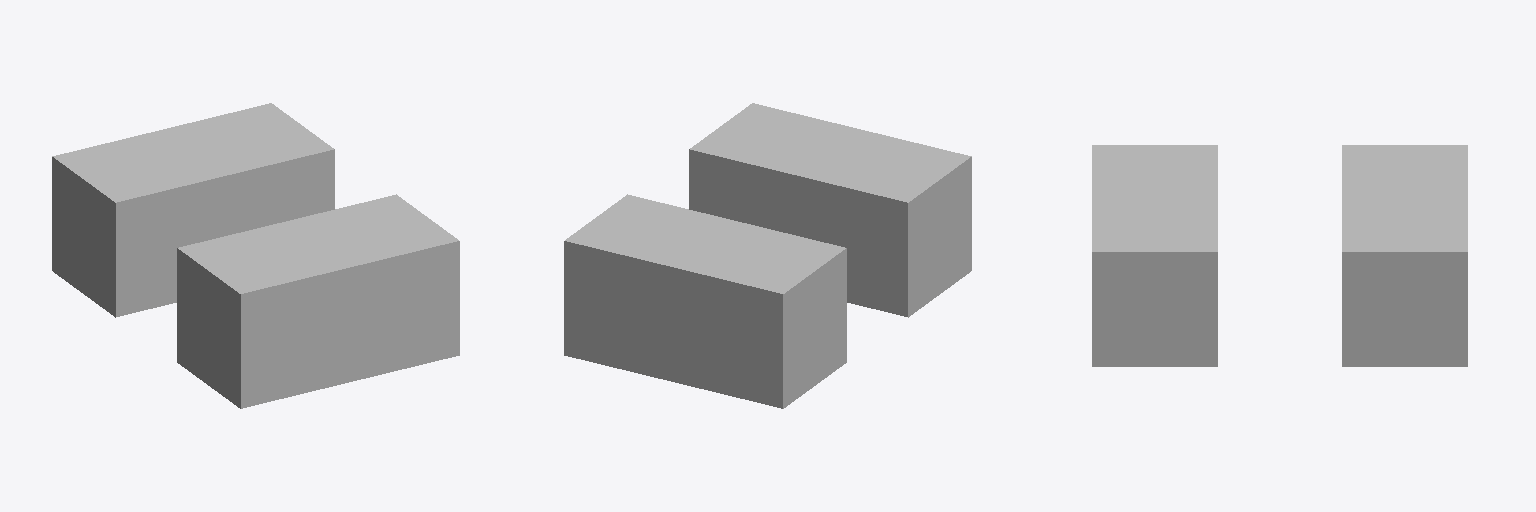
Rendered from 2cubes.obj.
3 renders of one model, left to right at view 1: azimuth 30°, elevation 25°; view 2: azimuth 150°, elevation 25°; view 3: azimuth 270°, elevation 25°, orthographic.
Visible parts, largest first — view 1: Cube1_Cube.001, Cube0_Cube; view 2: Cube0_Cube, Cube1_Cube.001; view 3: Cube0_Cube, Cube1_Cube.001.
Boxes of the visible parts, x1=… form: Cube1_Cube.001: x1=177, y1=194, x2=459, y2=408; Cube0_Cube: x1=52, y1=103, x2=334, y2=317; Cube0_Cube: x1=564, y1=194, x2=846, y2=408; Cube1_Cube.001: x1=689, y1=103, x2=971, y2=317; Cube0_Cube: x1=1342, y1=145, x2=1467, y2=366; Cube1_Cube.001: x1=1092, y1=145, x2=1217, y2=366.
Bounding box in the file's own units: 4 × 2 × 5.95.